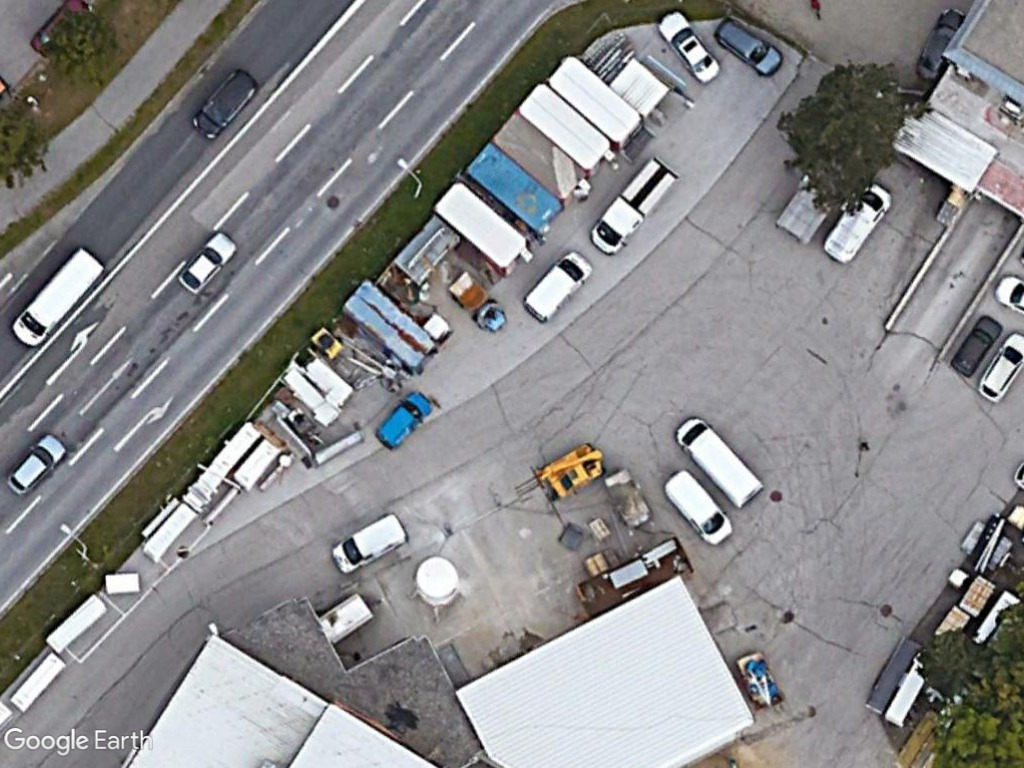car: (186, 64, 265, 144), (712, 8, 784, 83), (172, 226, 242, 299), (657, 8, 720, 88), (0, 429, 74, 495), (943, 310, 1009, 379), (369, 388, 437, 454), (975, 329, 1024, 400)
other: (585, 160, 680, 256)
van: (8, 244, 108, 353), (675, 409, 765, 512), (664, 464, 734, 551), (515, 249, 593, 325), (325, 511, 409, 576)
